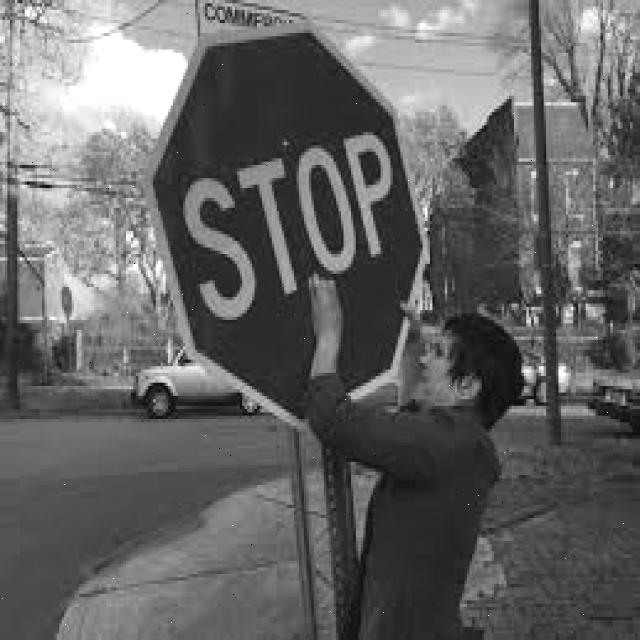stop sign: (148, 26, 432, 421)
